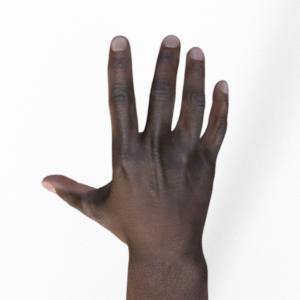paper: (42, 36, 227, 300)
